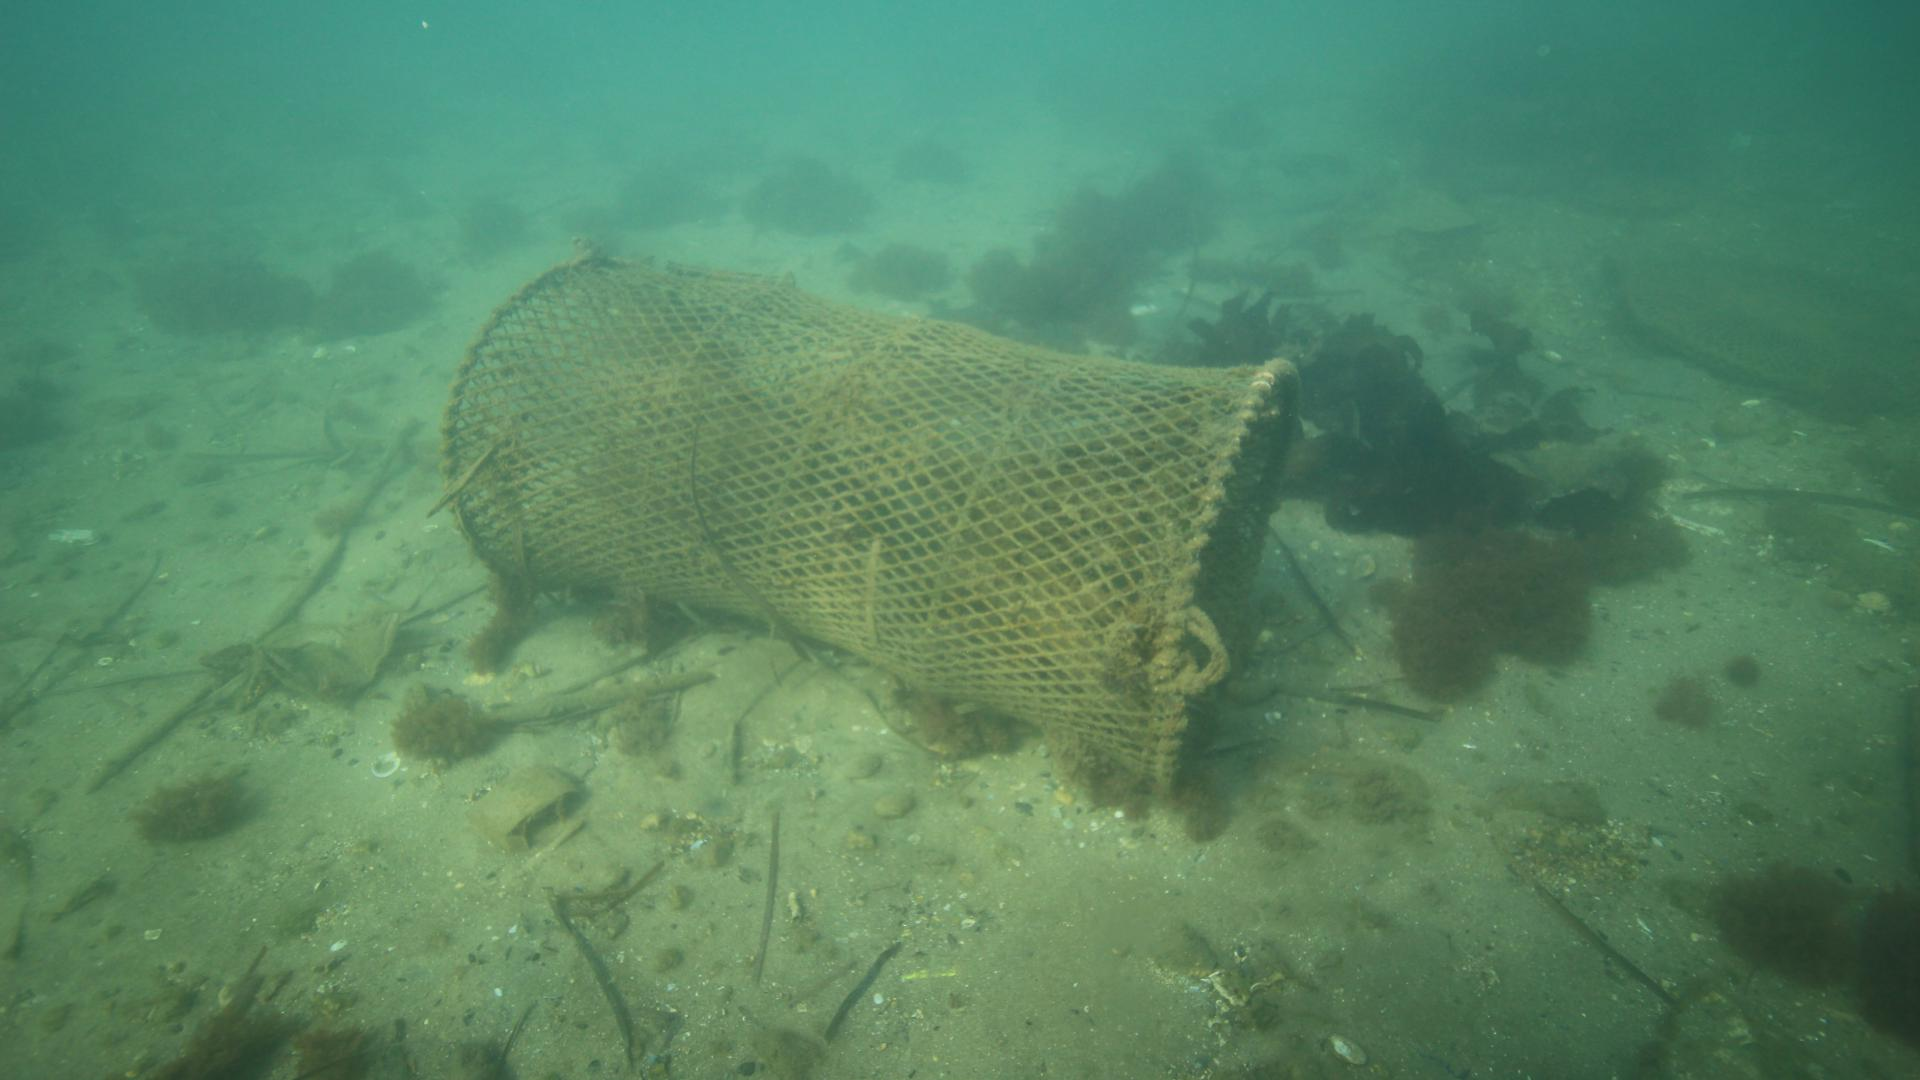spring fish trap: (443, 247, 1300, 798)
